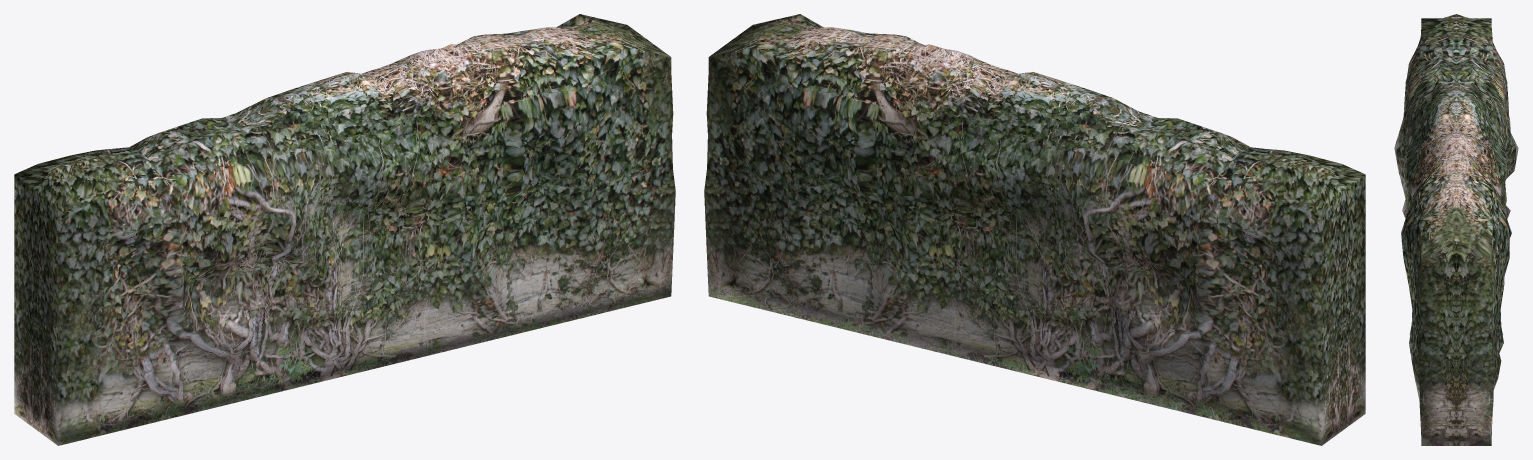
The model's file is wallpartd.fbx.
The picture shows the model from 3 angles, left to right: view 1: azimuth 30°, elevation 25°; view 2: azimuth 150°, elevation 25°; view 3: azimuth 270°, elevation 25°; orthographic projection. The views are drawn at different scales.
Parts seen in each view (by area): view 1: U3DMesh; view 2: U3DMesh; view 3: U3DMesh.
Boxes of the visible parts, box(x1,y1,x2,y2) form: U3DMesh: box(14, 14, 675, 445); U3DMesh: box(704, 14, 1365, 445); U3DMesh: box(1394, 14, 1518, 445).
Size of the model in its own units: 134 by 59 by 29.41.
